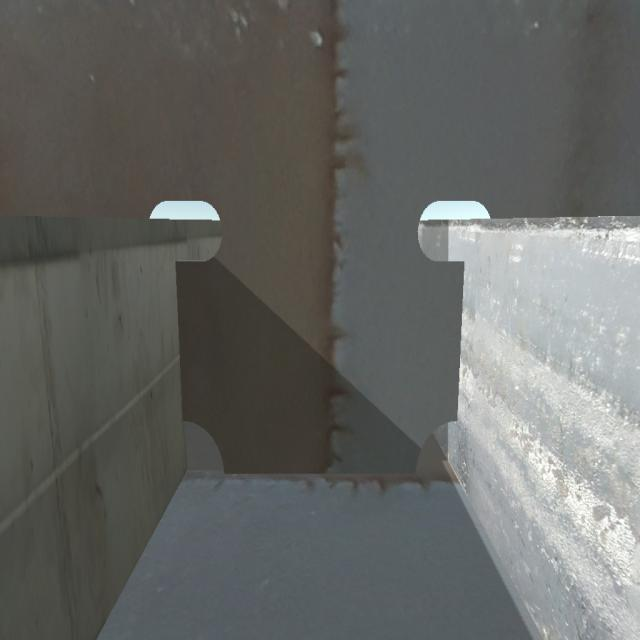fillet_hole: (414, 420, 466, 474), (184, 420, 227, 481)
fillet_yong_jeop_jang: (218, 468, 426, 490)
longi_yong_jeop_jang: (166, 237, 194, 439), (454, 258, 477, 418)
